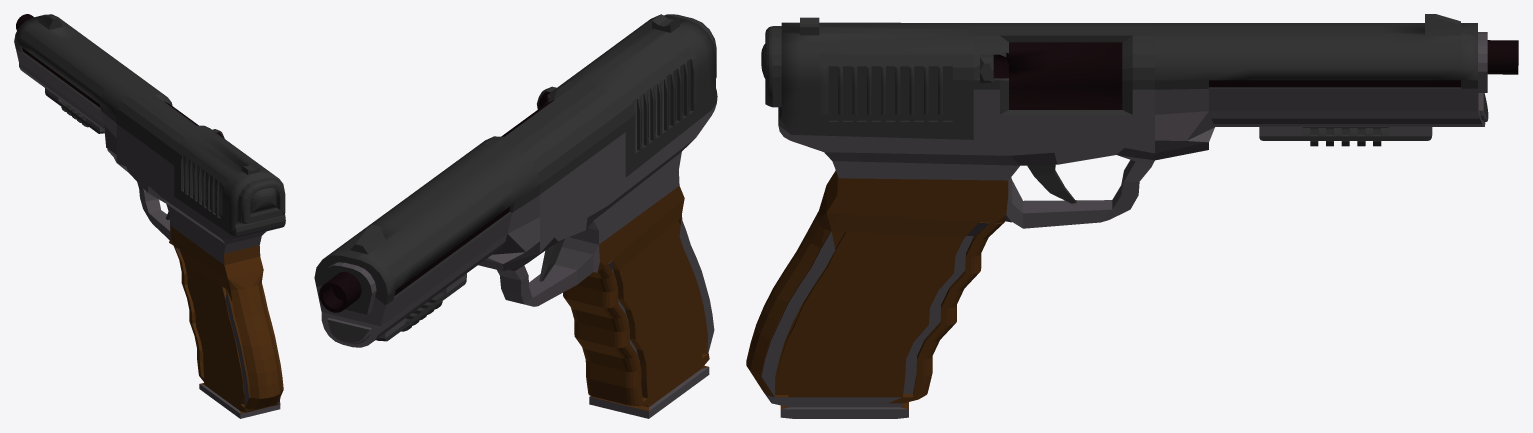
File: handgun.glb
The picture shows the model from 3 angles, left to right: view 1: azimuth 30°, elevation 25°; view 2: azimuth 150°, elevation 25°; view 3: azimuth 270°, elevation 25°; orthographic projection. The views are drawn at different scales.
Parts seen in each view (by area): view 1: Cube; view 2: Cube; view 3: Cube.
Boxes of the visible parts, bbox=[...] form: Cube: bbox=[14, 14, 285, 418]; Cube: bbox=[314, 14, 717, 418]; Cube: bbox=[746, 14, 1518, 418].
Size of the model in its own units: 0.76 by 3.26 by 5.84.
